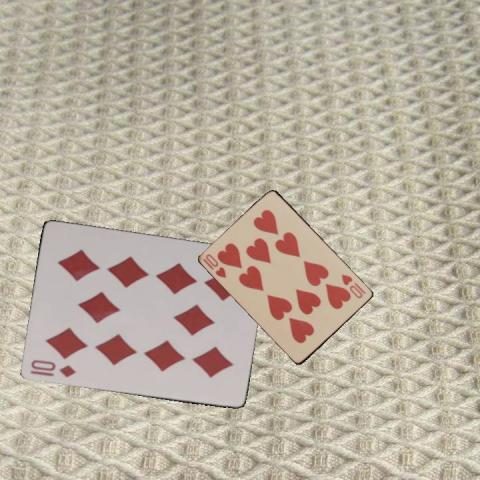10d: (27, 357, 77, 379)
10h: (339, 271, 367, 300), (200, 251, 228, 279)
